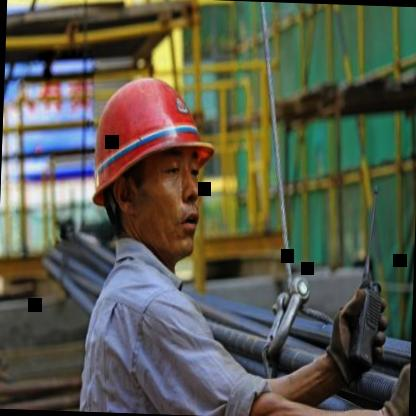helmet: (75, 52, 230, 276)
